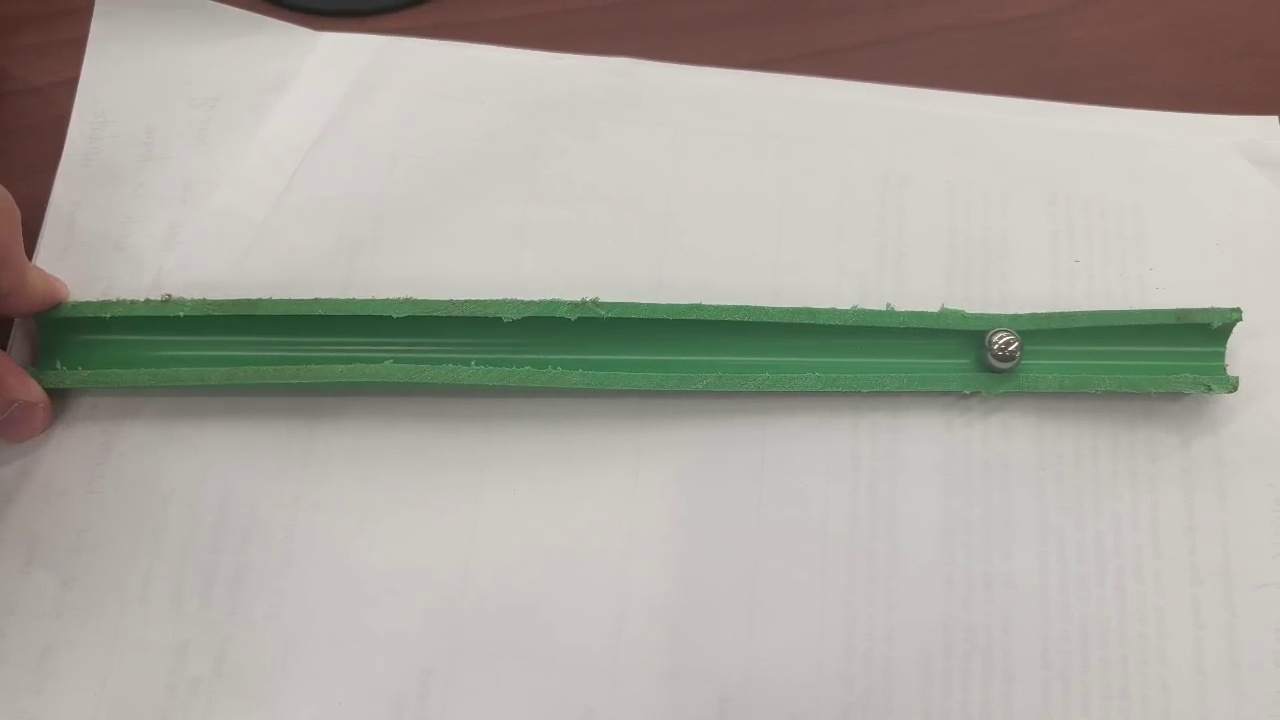ball: (986, 331, 1022, 370)
